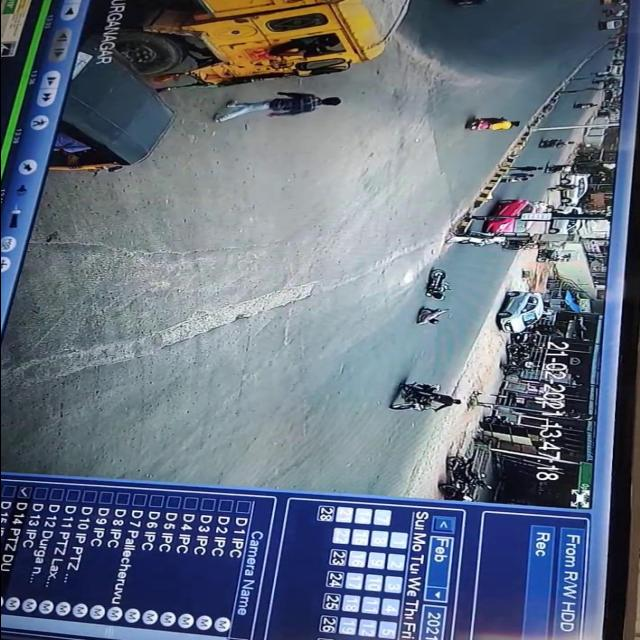accident: (411, 263, 461, 334)
